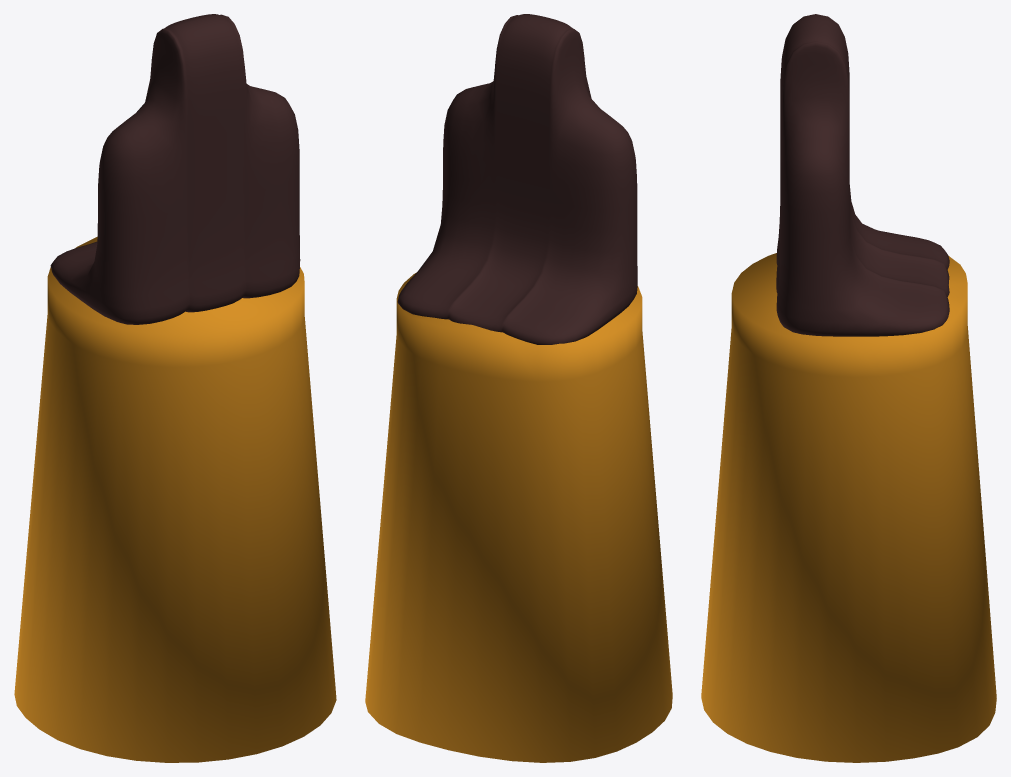
File: dr trial headmaster seat.fbx
3 renders of one model, left to right at view 1: azimuth 30°, elevation 25°; view 2: azimuth 150°, elevation 25°; view 3: azimuth 270°, elevation 25°, orthographic. The views are drawn at different scales.
Visible parts, largest first — view 1: Asiento; view 2: Asiento; view 3: Asiento.
Boxes of the visible parts, <box> form: Asiento: <box>14,14,336,762</box>; Asiento: <box>365,14,672,762</box>; Asiento: <box>701,14,996,762</box>.
Bounding box in the file's own units: 5.19 × 12.4 × 4.93.
